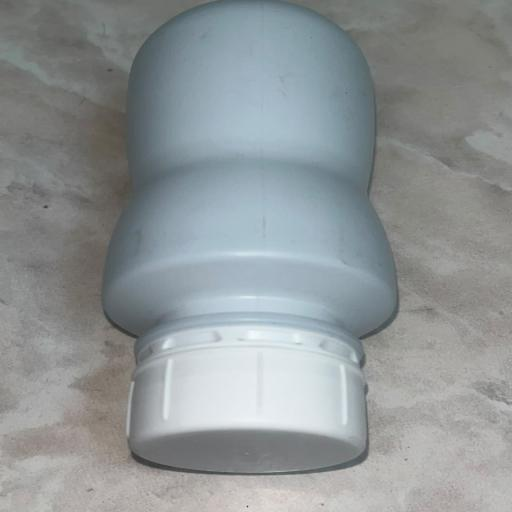HDPE: (65, 9, 471, 465)
